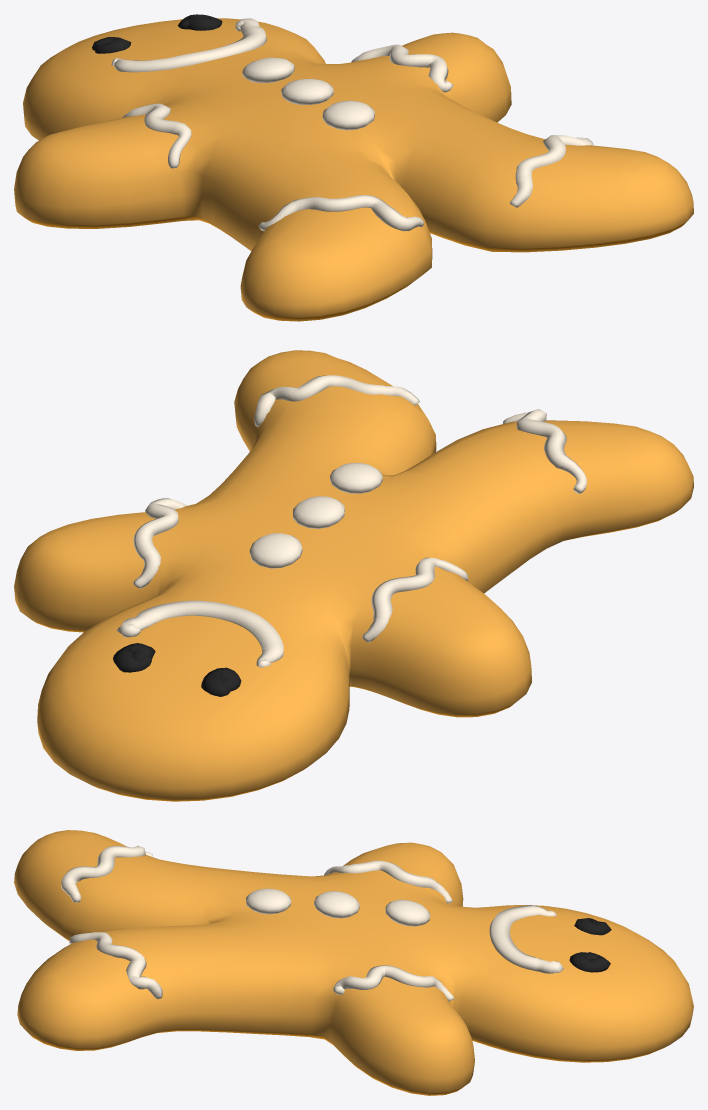
The model's file is gingerbread.fbx.
3 views of the same model, one above another, from view 1: azimuth 30°, elevation 25°; view 2: azimuth 150°, elevation 25°; view 3: azimuth 270°, elevation 25° (orthographic). The views are drawn at different scales.
Parts seen in each view (by area): view 1: gingerbread; view 2: gingerbread; view 3: gingerbread.
Part boxes in pixels (left/top/right/bottom): gingerbread: left=14, top=14, right=693, bottom=321; gingerbread: left=14, top=350, right=693, bottom=801; gingerbread: left=14, top=830, right=693, bottom=1095.
Size of the model in its own units: 17.85 by 5.21 by 24.7.
